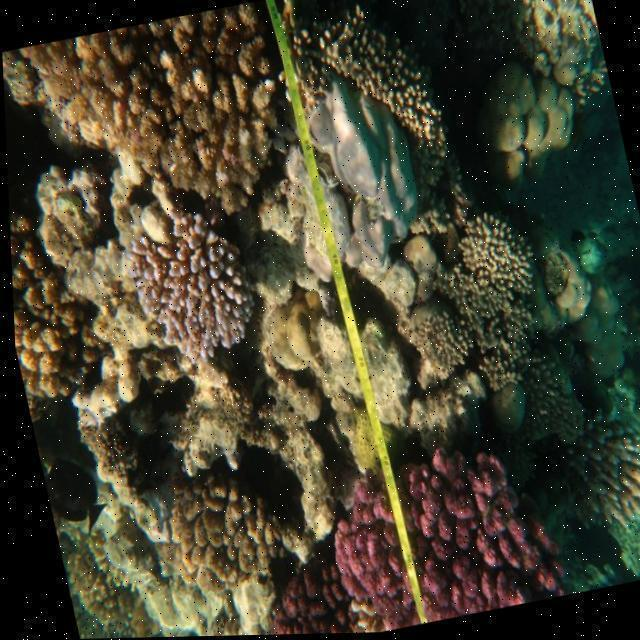Healthy Coral: (123, 231, 244, 357)
